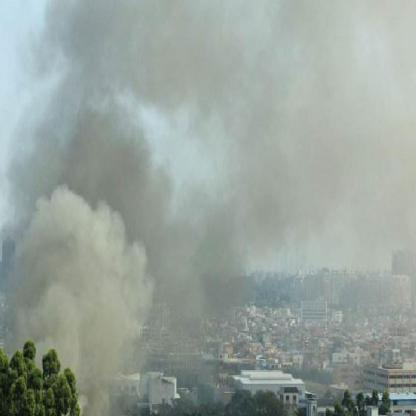smoke: (40, 2, 235, 118), (54, 104, 152, 204), (92, 207, 153, 365), (15, 184, 91, 289), (13, 289, 92, 363), (8, 100, 64, 200)
